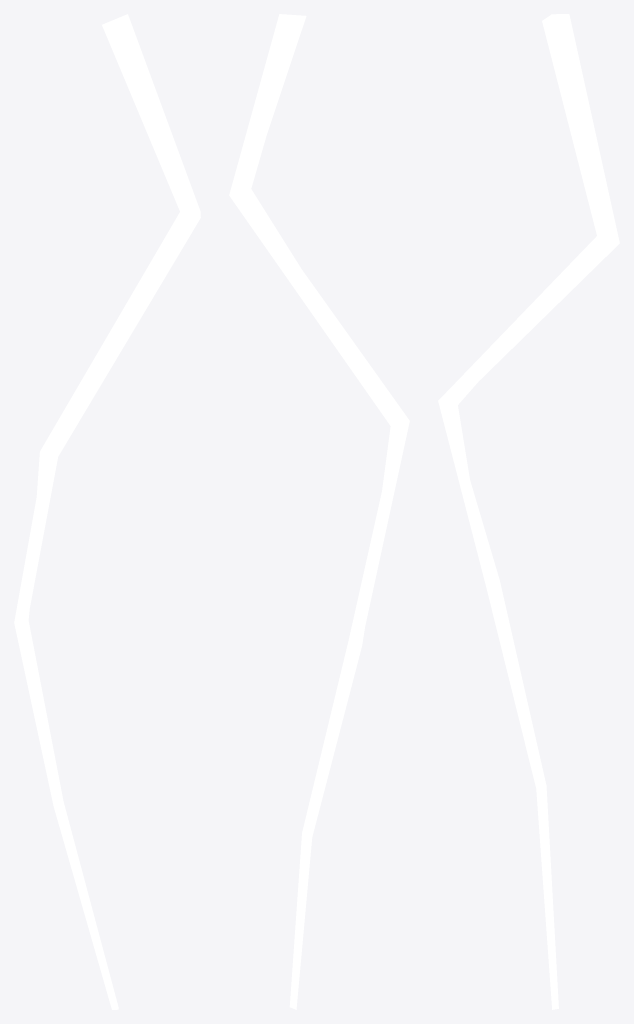
Rendered from SM_Env_LightningBolt_LQ.glb.
3 views of the same model, side by side, from view 1: azimuth 30°, elevation 25°; view 2: azimuth 150°, elevation 25°; view 3: azimuth 330°, elevation 25° (orthographic).
Parts seen in each view (by area): view 1: SM_Env_LightningBolt_LQ; view 2: SM_Env_LightningBolt_LQ; view 3: SM_Env_LightningBolt_LQ.
Part boxes in pixels (left/top/right/bottom): SM_Env_LightningBolt_LQ: left=14, top=14, right=200, bottom=1009; SM_Env_LightningBolt_LQ: left=229, top=14, right=409, bottom=1009; SM_Env_LightningBolt_LQ: left=438, top=14, right=619, bottom=1009.
Bounding box in the file's own units: 10.87 × 60.33 × 4.96.
1 material, 1 textured.
